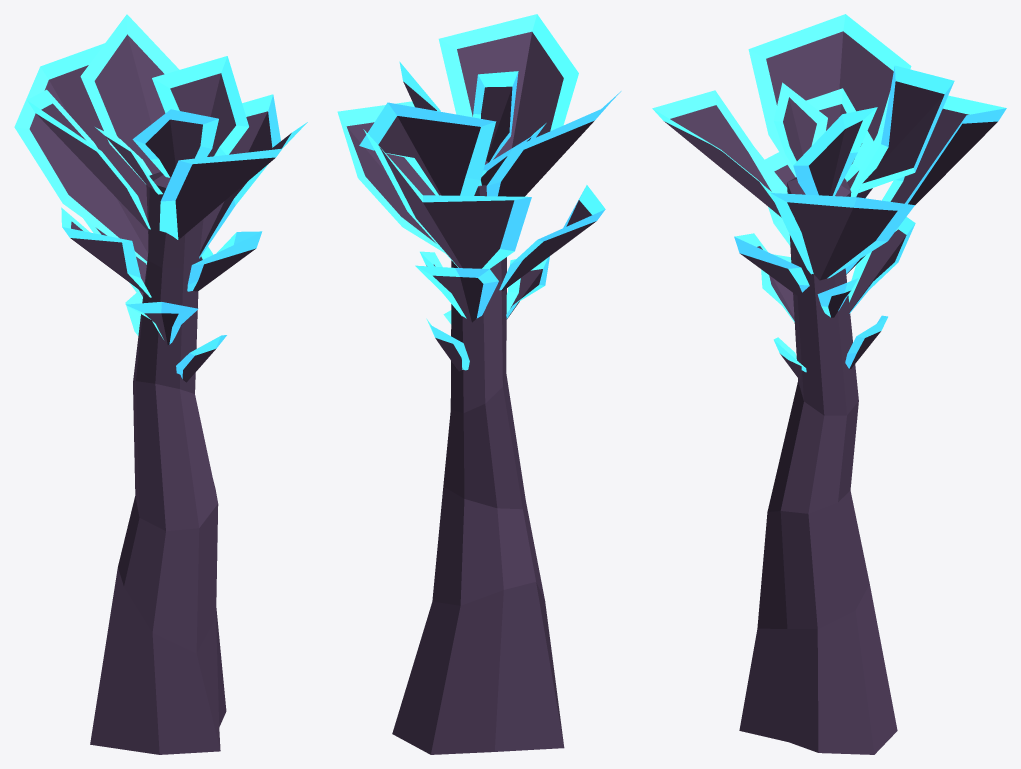
Rendered from scifi-scifi-tree-crown-big.glb.
3 views of the same model, side by side, from view 1: azimuth 30°, elevation 25°; view 2: azimuth 150°, elevation 25°; view 3: azimuth 270°, elevation 25° (orthographic). The views are drawn at different scales.
Visible parts, largest first — view 1: scifi-tree-crown-big; view 2: scifi-tree-crown-big; view 3: scifi-tree-crown-big.
Boxes of the visible parts, left/top/right/bottom form: scifi-tree-crown-big: left=14, top=14, right=307, bottom=754; scifi-tree-crown-big: left=337, top=14, right=621, bottom=754; scifi-tree-crown-big: left=652, top=14, right=1006, bottom=754.
Bounding box in the file's own units: 2.53 × 6.28 × 3.08.
